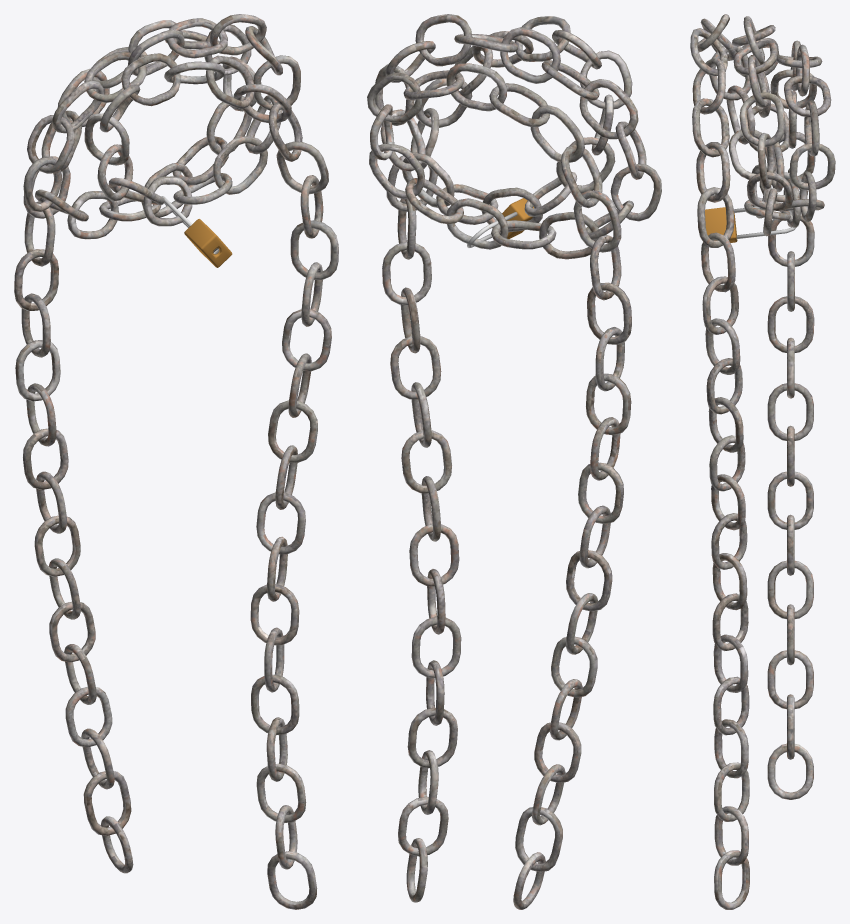
Rendered from Chain_low.fbx.
3 views of the same model, side by side, from view 1: azimuth 30°, elevation 25°; view 2: azimuth 150°, elevation 25°; view 3: azimuth 270°, elevation 25° (orthographic). The views are drawn at different scales.
Visible parts, largest first — view 1: Chain_Baked; view 2: Chain_Baked; view 3: Chain_Baked.
Boxes of the visible parts, <box> form: Chain_Baked: <box>14,14,338,909</box>; Chain_Baked: <box>367,14,661,909</box>; Chain_Baked: <box>690,14,835,909</box>.
Size of the model in its own units: 45.63 by 137 by 21.63.
Materials: 1 (1 with a texture image).
